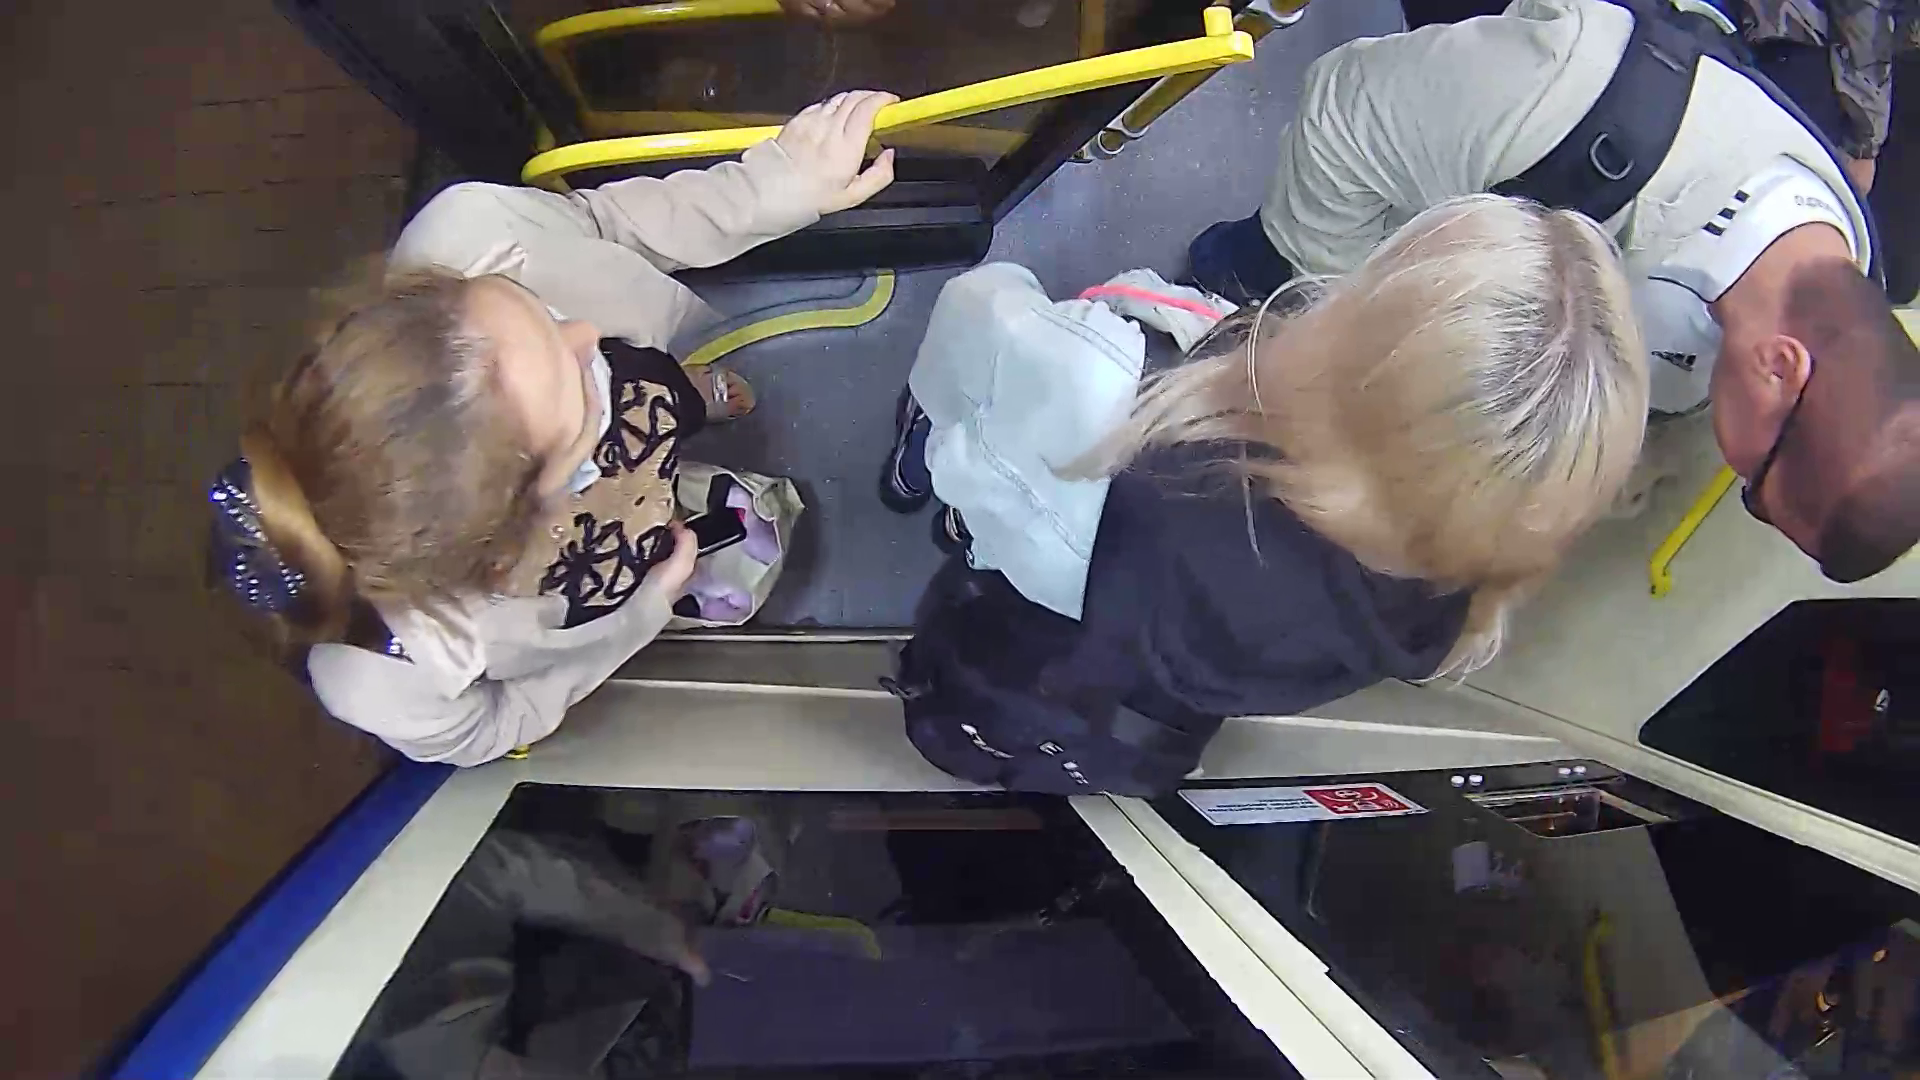person: (905, 213, 1620, 786), (221, 164, 814, 701)
